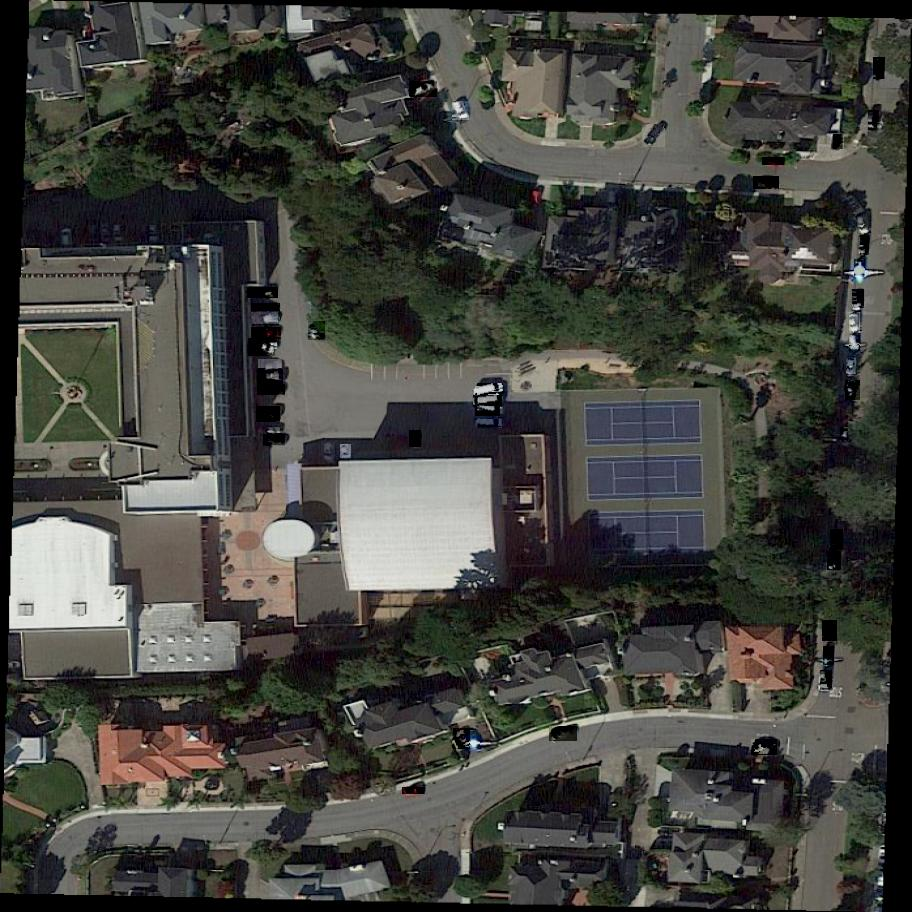small-vehicle: (643, 122, 666, 148), (249, 337, 278, 357), (409, 80, 437, 99), (453, 727, 476, 750), (550, 726, 578, 744), (475, 383, 503, 399), (751, 740, 779, 756), (256, 406, 282, 423), (257, 369, 284, 385), (251, 312, 280, 326), (251, 327, 282, 340), (308, 321, 325, 344), (753, 176, 780, 190), (452, 101, 469, 123), (247, 287, 278, 299), (823, 620, 839, 643), (856, 213, 871, 236), (475, 404, 501, 417), (258, 360, 284, 373), (474, 395, 502, 407), (257, 384, 285, 396), (830, 529, 845, 551), (845, 380, 860, 401), (252, 304, 280, 315), (874, 56, 887, 79), (263, 435, 286, 447), (868, 110, 881, 131), (849, 312, 861, 333), (828, 551, 841, 570), (325, 442, 337, 461), (852, 290, 864, 308), (820, 671, 832, 689), (823, 646, 834, 665), (258, 427, 281, 436), (849, 335, 861, 352), (854, 259, 866, 276), (860, 235, 870, 255), (409, 431, 421, 447), (477, 419, 501, 427), (762, 157, 785, 165), (470, 731, 480, 749), (341, 444, 352, 460), (834, 134, 844, 150), (847, 359, 857, 375), (403, 787, 424, 794), (840, 427, 848, 441)
